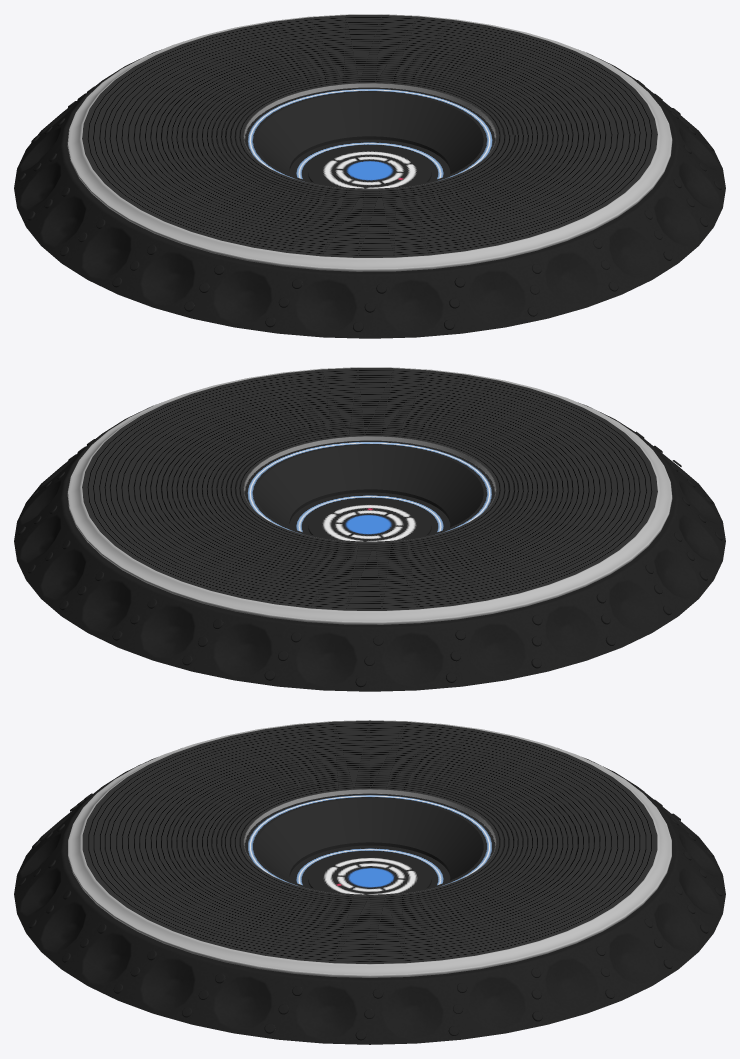
3 renders of one model, top to bottom at view 1: azimuth 30°, elevation 25°; view 2: azimuth 150°, elevation 25°; view 3: azimuth 270°, elevation 25°, orthographic.
Visible parts, largest first — view 1: dj; view 2: dj; view 3: dj.
Boxes of the visible parts, left/top/right/bottom form: dj: left=14, top=14, right=725, bottom=338; dj: left=14, top=367, right=725, bottom=691; dj: left=14, top=720, right=725, bottom=1044.
Size of the model in its own units: 684 by 55.11 by 684.
